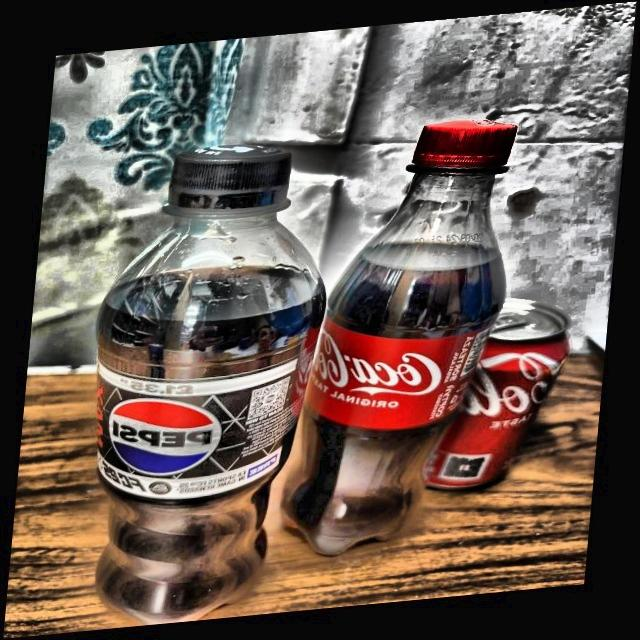coke-bottle: (285, 116, 515, 577)
coke-can: (433, 296, 561, 498)
pepsi-bottle: (103, 144, 320, 611)
